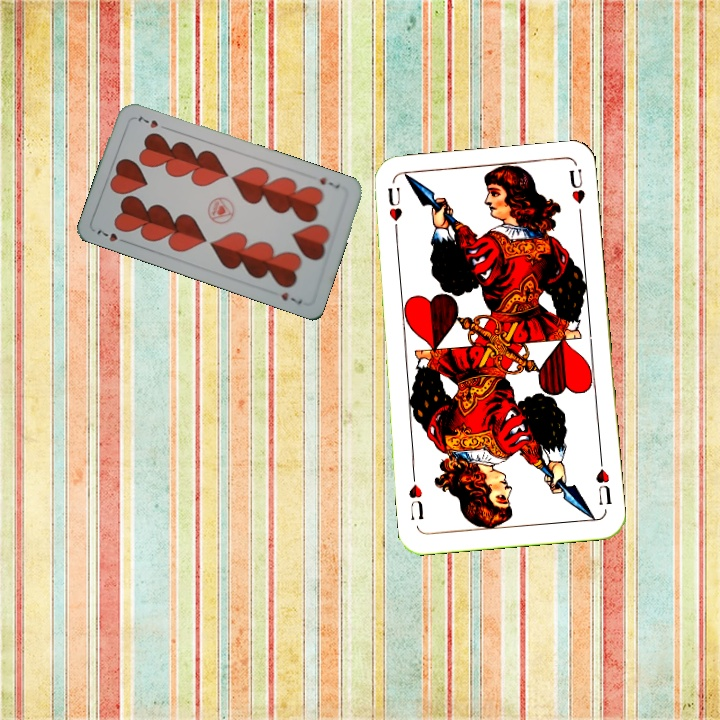H7: (93, 225, 130, 246), (315, 173, 343, 191)
HU: (383, 183, 405, 240), (592, 454, 614, 508)
